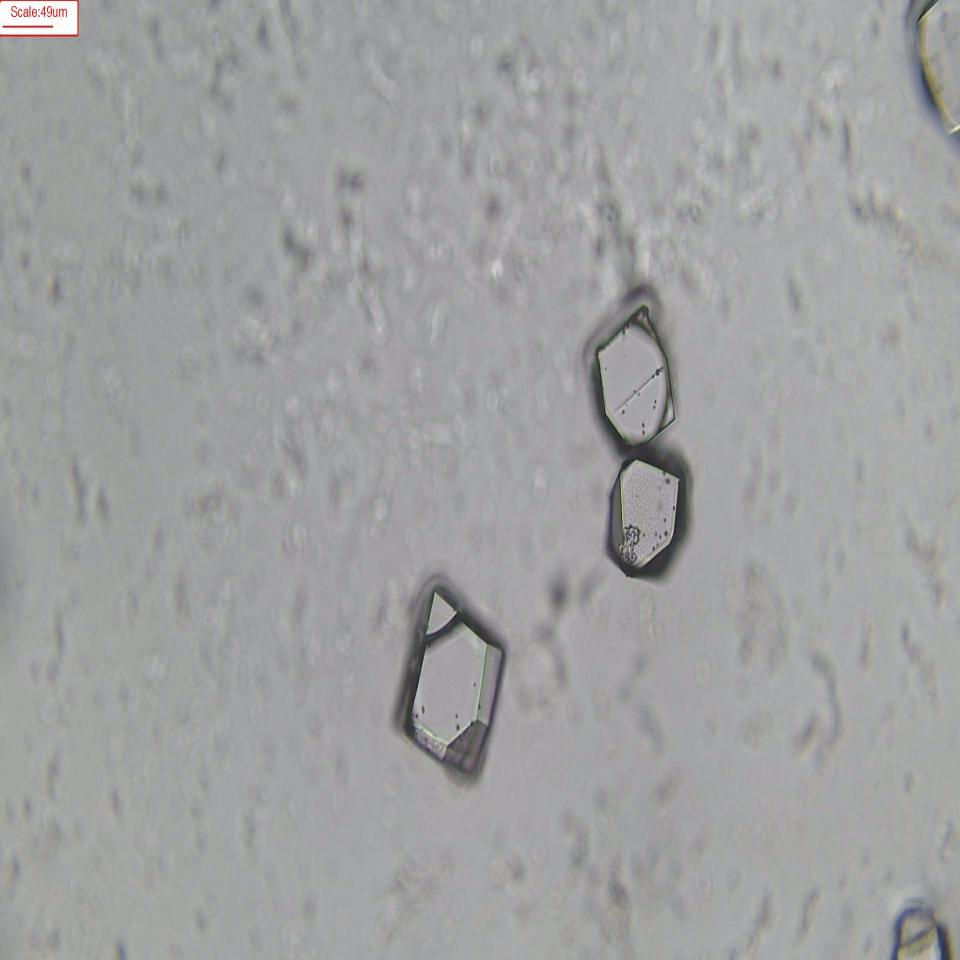crystal: (394, 580, 506, 788), (592, 306, 676, 450), (606, 450, 690, 581)
